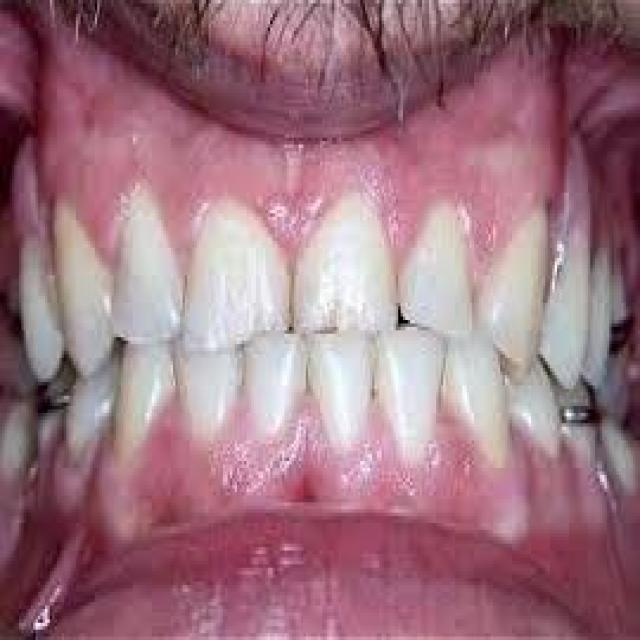tooth: (301, 175, 396, 334), (185, 207, 291, 344), (109, 172, 185, 354), (403, 182, 479, 341), (50, 189, 114, 372), (379, 310, 446, 468), (306, 320, 379, 461), (448, 330, 514, 475), (114, 327, 178, 475), (491, 193, 545, 368), (545, 192, 588, 396), (242, 327, 308, 451), (176, 327, 240, 447)
